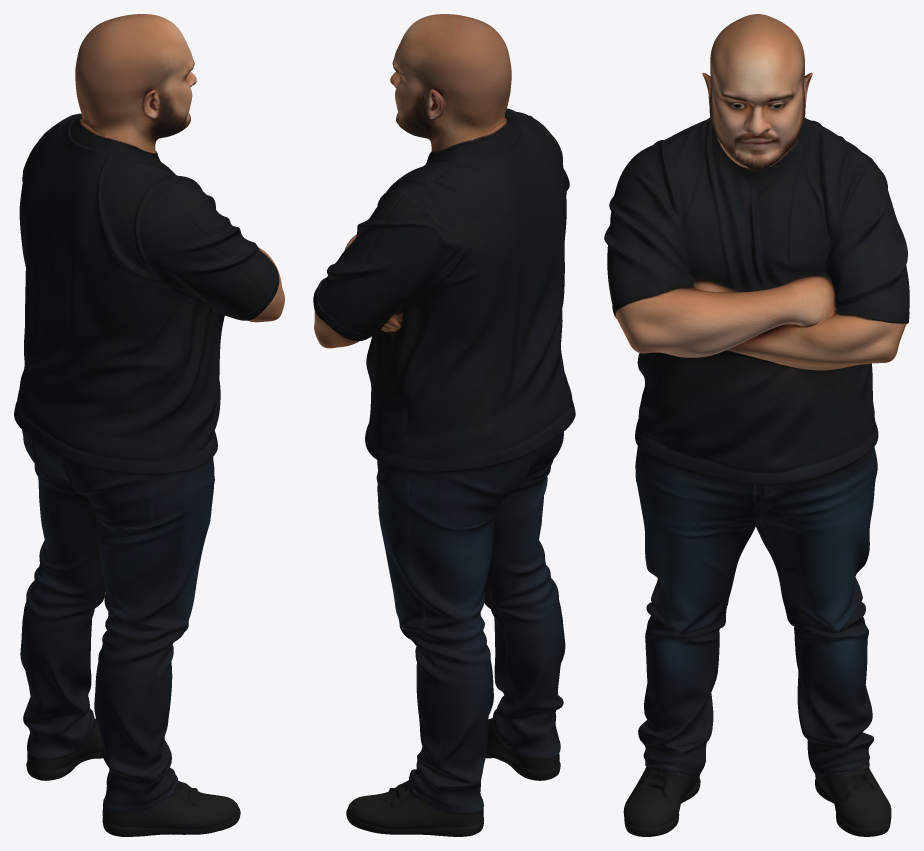
The model's file is 2hologram.glb.
3 views of the same model, side by side, from view 1: azimuth 30°, elevation 25°; view 2: azimuth 150°, elevation 25°; view 3: azimuth 270°, elevation 25° (orthographic). The views are drawn at different scales.
Parts seen in each view (by area): view 1: tripo_node_51dd790d-0058-442f-9a2e-44ff9ae7305e; view 2: tripo_node_51dd790d-0058-442f-9a2e-44ff9ae7305e; view 3: tripo_node_51dd790d-0058-442f-9a2e-44ff9ae7305e.
Boxes of the visible parts, x1=… form: tripo_node_51dd790d-0058-442f-9a2e-44ff9ae7305e: x1=14, y1=14, x2=284, y2=836; tripo_node_51dd790d-0058-442f-9a2e-44ff9ae7305e: x1=313, y1=14, x2=575, y2=836; tripo_node_51dd790d-0058-442f-9a2e-44ff9ae7305e: x1=604, y1=14, x2=909, y2=836.
Bounding box in the file's own units: 0.2741 × 1 × 0.3499.
Materials: 1 (1 with a texture image).
